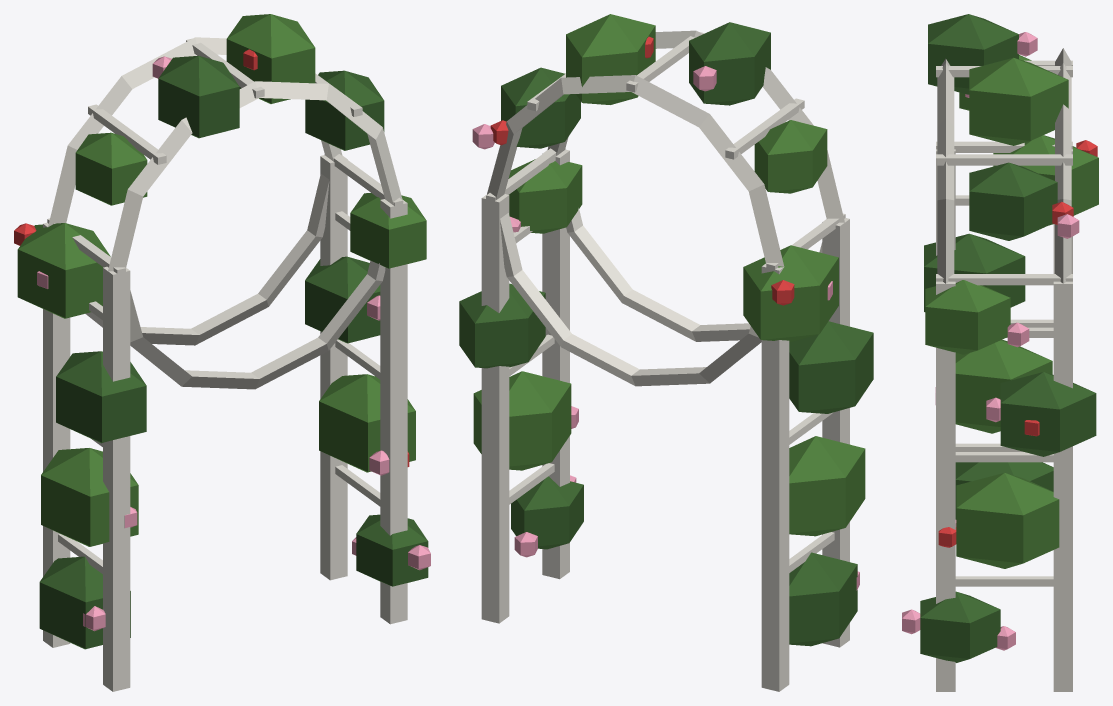
Rendered from garden_arch.gltf.
3 views of the same model, side by side, from view 1: azimuth 30°, elevation 25°; view 2: azimuth 150°, elevation 25°; view 3: azimuth 270°, elevation 25° (orthographic). The views are drawn at different scales.
Parts seen in each view (by area): view 1: garden_arch; view 2: garden_arch; view 3: garden_arch.
Boxes of the visible parts, x1=… form: garden_arch: x1=14, y1=14, x2=430, y2=691; garden_arch: x1=459, y1=14, x2=873, y2=691; garden_arch: x1=902, y1=14, x2=1098, y2=691.
Bounding box in the file's own units: 2.09 × 3.31 × 1.
